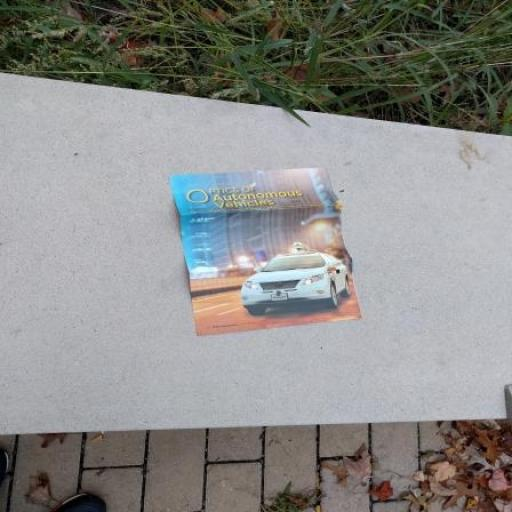paper: (107, 132, 476, 366)
